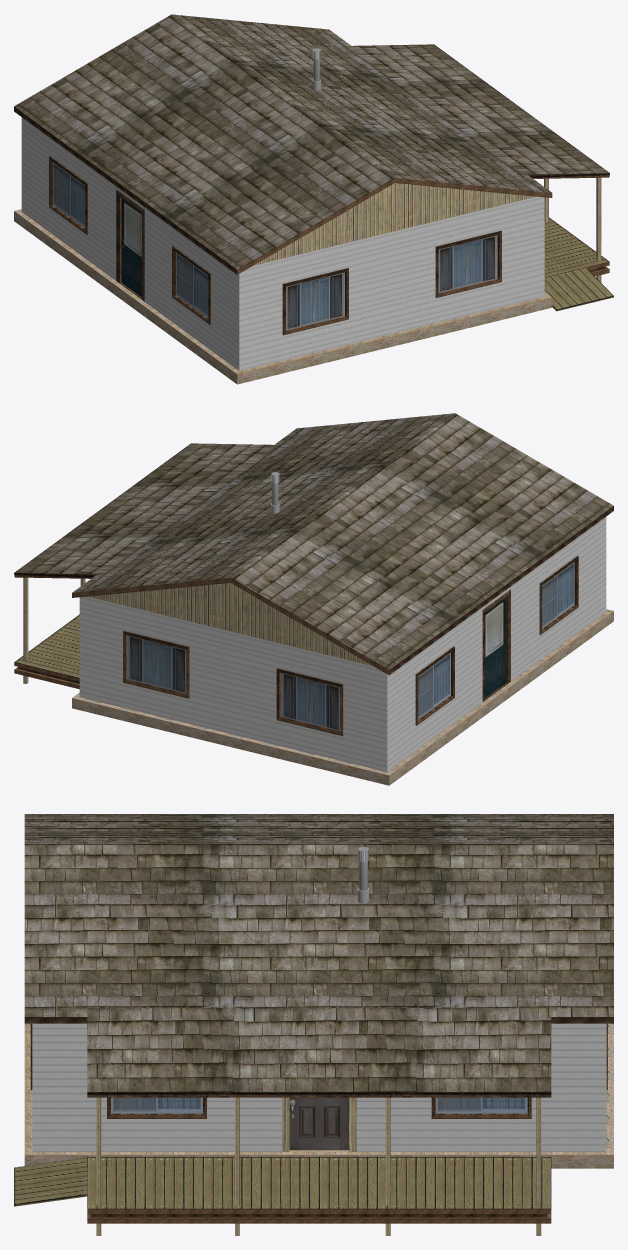
Rendered from USAHouseSF.obj.
3 renders of one model, top to bottom at view 1: azimuth 30°, elevation 25°; view 2: azimuth 150°, elevation 25°; view 3: azimuth 270°, elevation 25°, orthographic. The views are drawn at different scales.
Parts seen in each view (by area): view 1: building_003_building_003_mesh, Cube, Cube.005_Cube.006, Cube.006_Cube.007, Cube.004_Cube.005; view 2: building_003_building_003_mesh, Cube, Cube.005_Cube.006, Cube.001; view 3: building_003_building_003_mesh, Cube, Cube.005_Cube.006, Cube.006_Cube.007, Cube.001, Cube.002_Cube.003, Cube.004_Cube.005, Cube.003_Cube.004, Cylinder.
Boxes of the visible parts, bbox=[...] form: building_003_building_003_mesh: bbox=[14, 14, 552, 384]; Cube: bbox=[345, 44, 609, 178]; Cube.005_Cube.006: bbox=[544, 217, 609, 277]; Cube.006_Cube.007: bbox=[544, 268, 613, 311]; Cube.004_Cube.005: bbox=[596, 177, 601, 282]; building_003_building_003_mesh: bbox=[72, 413, 613, 785]; Cube: bbox=[14, 443, 280, 578]; Cube.005_Cube.006: bbox=[14, 614, 79, 689]; Cube.001: bbox=[23, 577, 28, 683]; building_003_building_003_mesh: bbox=[24, 814, 613, 1168]; Cube: bbox=[87, 1008, 551, 1097]; Cube.005_Cube.006: bbox=[87, 1157, 551, 1223]; Cube.006_Cube.007: bbox=[14, 1157, 87, 1206]; Cube.001: bbox=[536, 1097, 541, 1235]; Cube.002_Cube.003: bbox=[385, 1097, 390, 1235]; Cube.004_Cube.005: bbox=[96, 1097, 101, 1235]; Cube.003_Cube.004: bbox=[235, 1097, 239, 1235]; Cylinder: bbox=[357, 847, 369, 903].
Size of the model in its own units: 8.14 by 3.99 by 8.09.
Materials: 10 (10 with a texture image).
